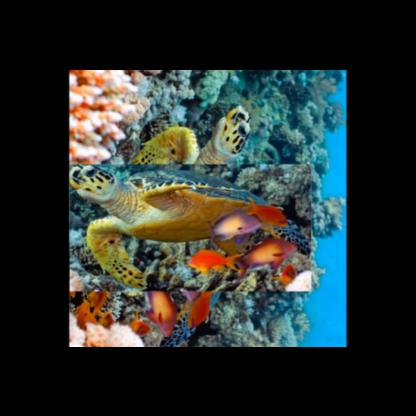turtle: (94, 132, 280, 320)
